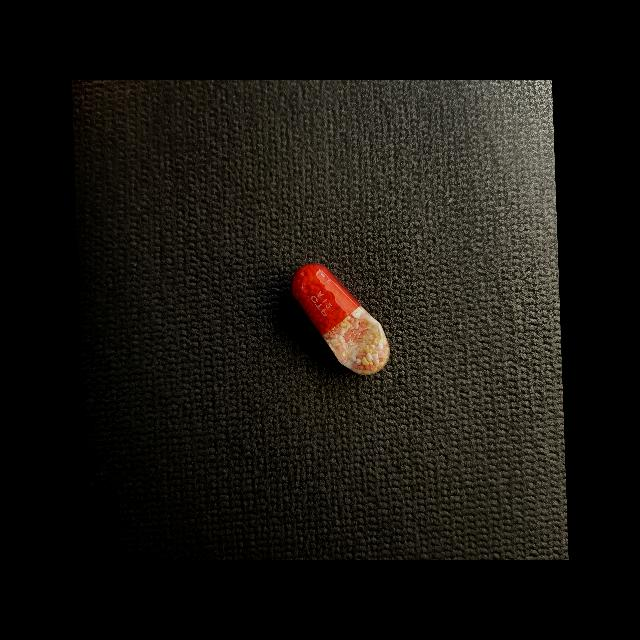Defective Capsule: (291, 264, 390, 375)
